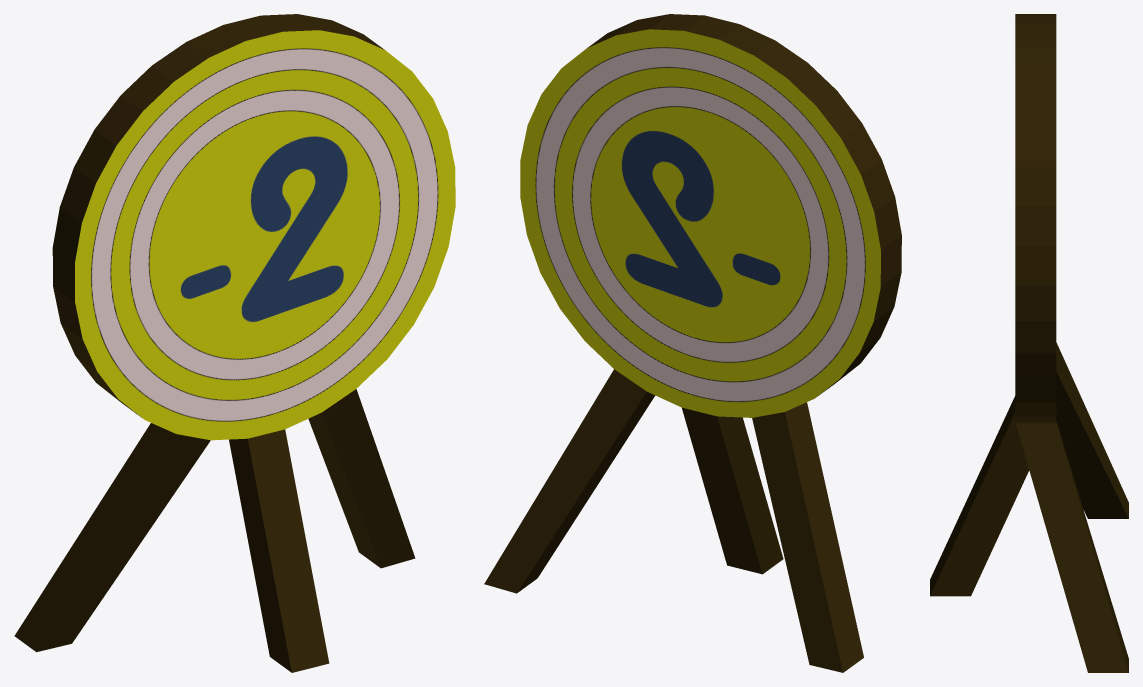
The model's file is renk7.fbx.
The picture shows the model from 3 angles, left to right: view 1: azimuth 30°, elevation 25°; view 2: azimuth 150°, elevation 25°; view 3: azimuth 270°, elevation 25°; orthographic projection. The views are drawn at different scales.
Visible parts, largest first — view 1: Cylinder; view 2: Cylinder; view 3: Cylinder.
Part boxes in pixels (x1=…): Cylinder: x1=14, y1=14, x2=455, y2=672; Cylinder: x1=484, y1=14, x2=901, y2=672; Cylinder: x1=930, y1=14, x2=1128, y2=672.
Bounding box in the file's own units: 199 × 299 × 97.2.
Materials: 2 (1 with a texture image).
